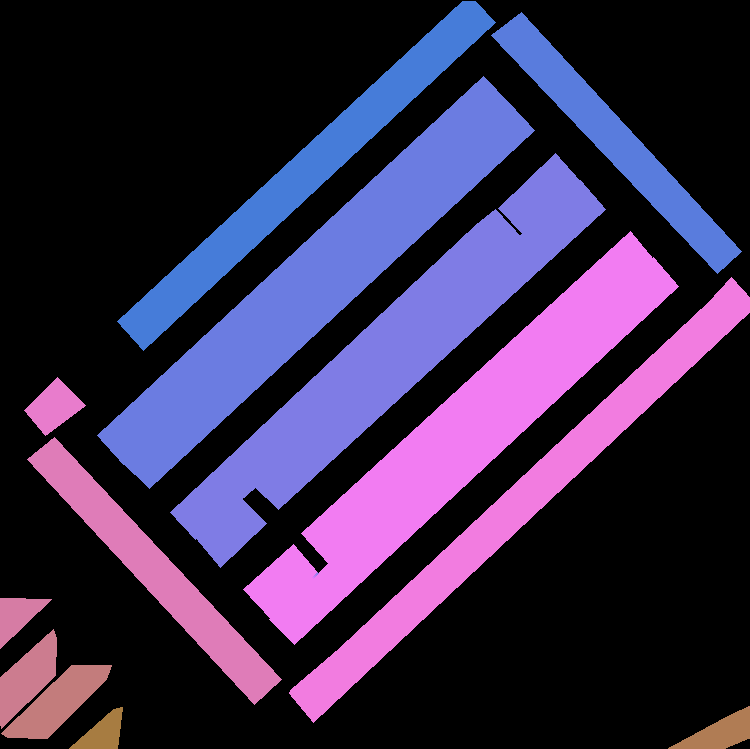parkingspot: (289, 277, 750, 722), (97, 76, 509, 464), (121, 103, 534, 488), (269, 257, 678, 644), (117, 1, 495, 350), (301, 231, 653, 564), (170, 209, 521, 539), (254, 180, 605, 509), (27, 437, 281, 704), (491, 12, 741, 273), (1, 665, 111, 738), (498, 153, 579, 235), (243, 544, 317, 619), (0, 629, 56, 728), (196, 498, 266, 567), (667, 706, 750, 749), (24, 377, 85, 435), (0, 598, 51, 648), (68, 707, 122, 749)
